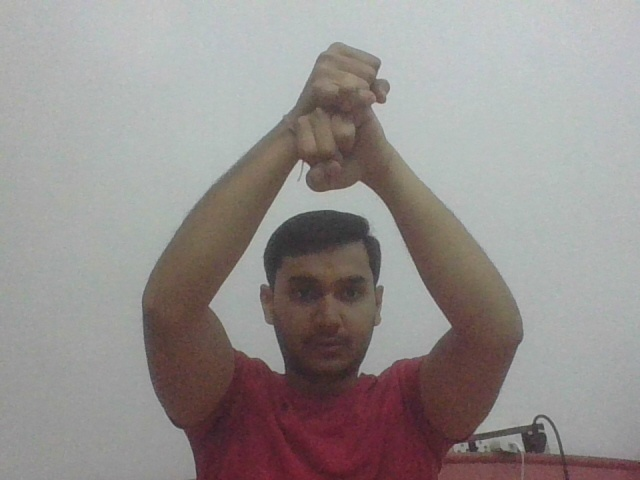S: (290, 37, 390, 199)
